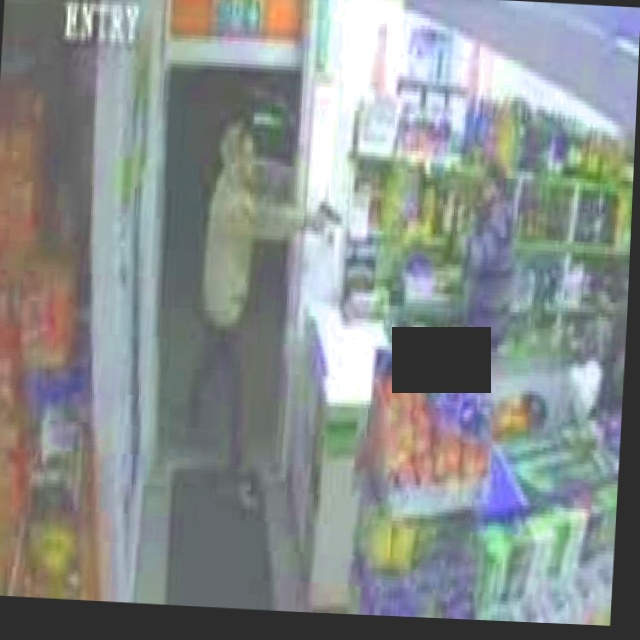gun: (309, 189, 346, 243)
